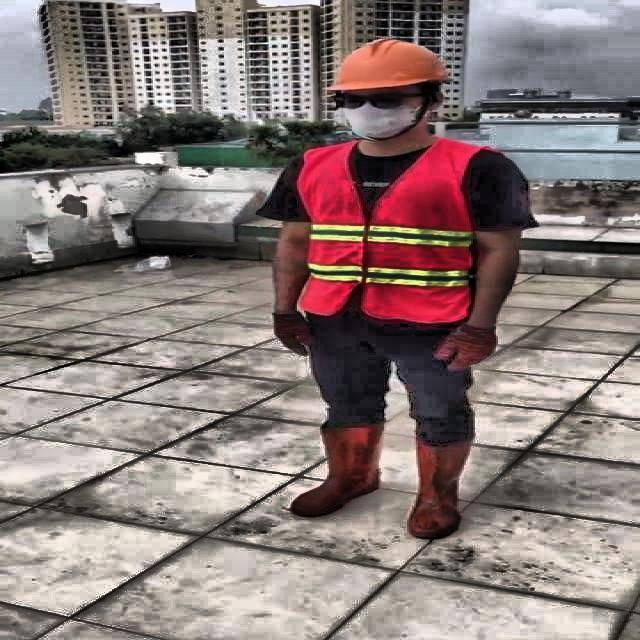safety_helmet: (324, 36, 444, 90)
safety_jacket: (295, 140, 478, 323)
